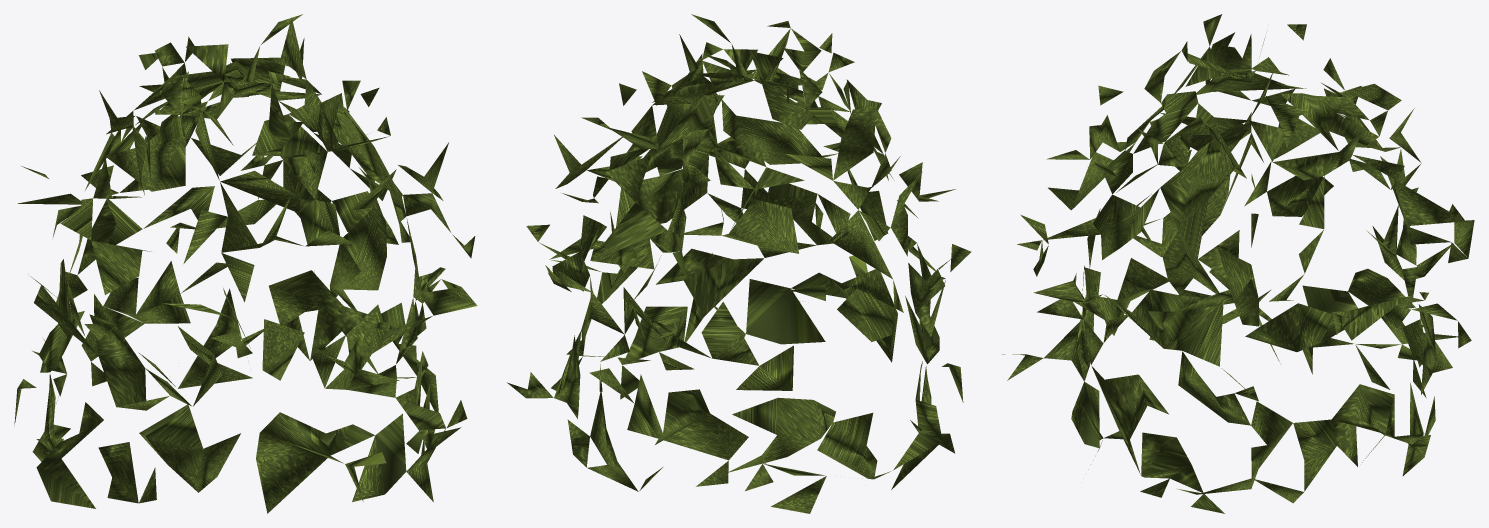
File: bush.glb
3 views of the same model, side by side, from view 1: azimuth 30°, elevation 25°; view 2: azimuth 150°, elevation 25°; view 3: azimuth 270°, elevation 25° (orthographic). The views are drawn at different scales.
Parts seen in each view (by area): view 1: tripo_node_d30353a6-3213-4df1-951e-bf0dc3fd0e3e; view 2: tripo_node_d30353a6-3213-4df1-951e-bf0dc3fd0e3e; view 3: tripo_node_d30353a6-3213-4df1-951e-bf0dc3fd0e3e.
Part boxes in pixels (bbox=[...]): tripo_node_d30353a6-3213-4df1-951e-bf0dc3fd0e3e: bbox=[14, 14, 477, 513]; tripo_node_d30353a6-3213-4df1-951e-bf0dc3fd0e3e: bbox=[507, 14, 971, 513]; tripo_node_d30353a6-3213-4df1-951e-bf0dc3fd0e3e: bbox=[1002, 14, 1474, 513].
Bounding box in the file's own units: 0.8556 × 0.8281 × 0.8579.
1 material, 1 textured.
